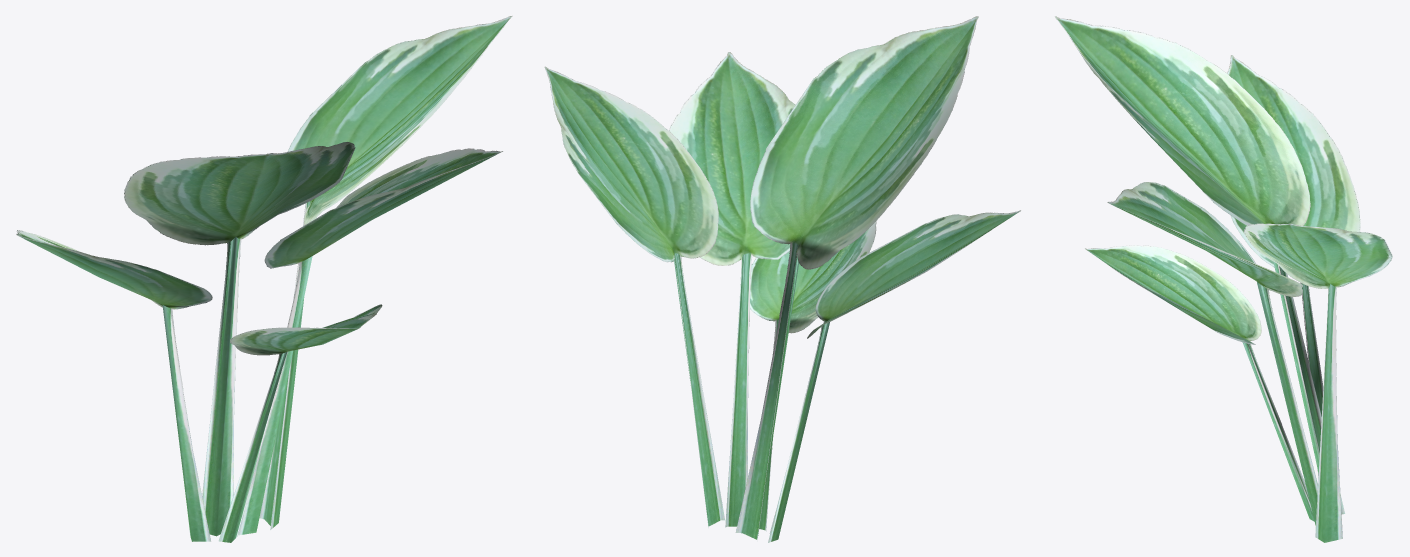
Rendered from plant_small_wg_03W.fbx.
3 views of the same model, side by side, from view 1: azimuth 30°, elevation 25°; view 2: azimuth 150°, elevation 25°; view 3: azimuth 270°, elevation 25° (orthographic). The views are drawn at different scales.
Visible parts, largest first — view 1: plant_small_wg_03W; view 2: plant_small_wg_03W; view 3: plant_small_wg_03W.
Boxes of the visible parts, <box> form: plant_small_wg_03W: <box>16,16,512,542</box>; plant_small_wg_03W: <box>544,16,1020,542</box>; plant_small_wg_03W: <box>1055,16,1392,542</box>.
Bounding box in the file's own units: 49.6 × 46.59 × 31.57.
